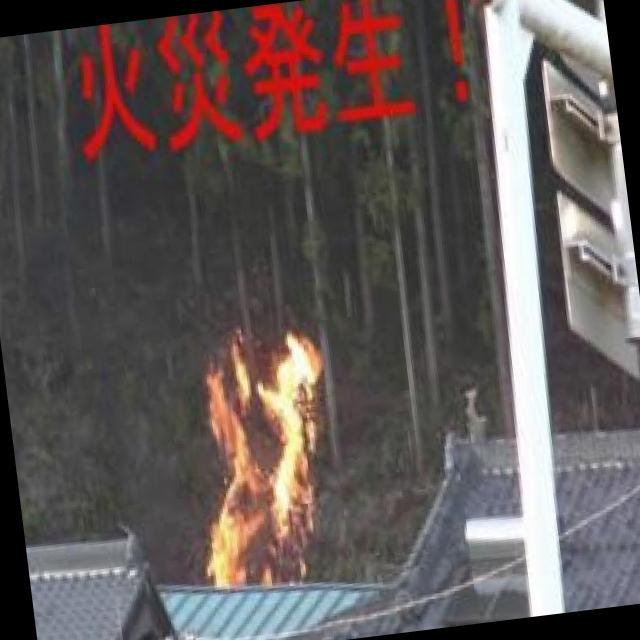Fire: (181, 326, 367, 595)
